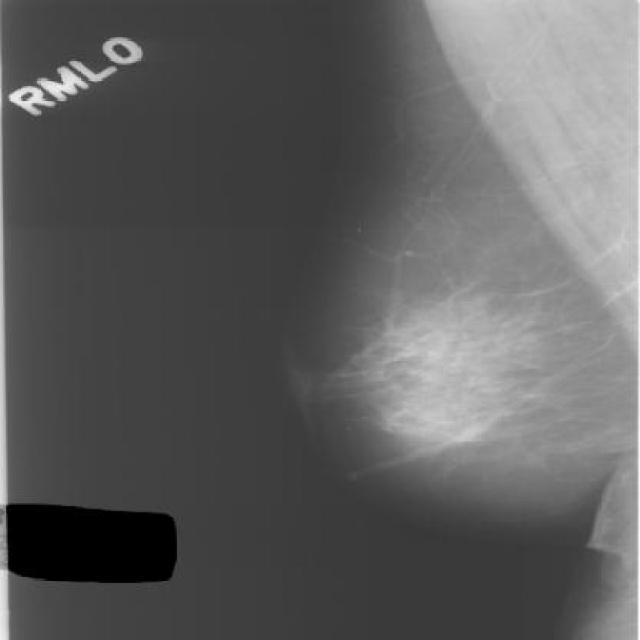tumor: (368, 298, 586, 510)
